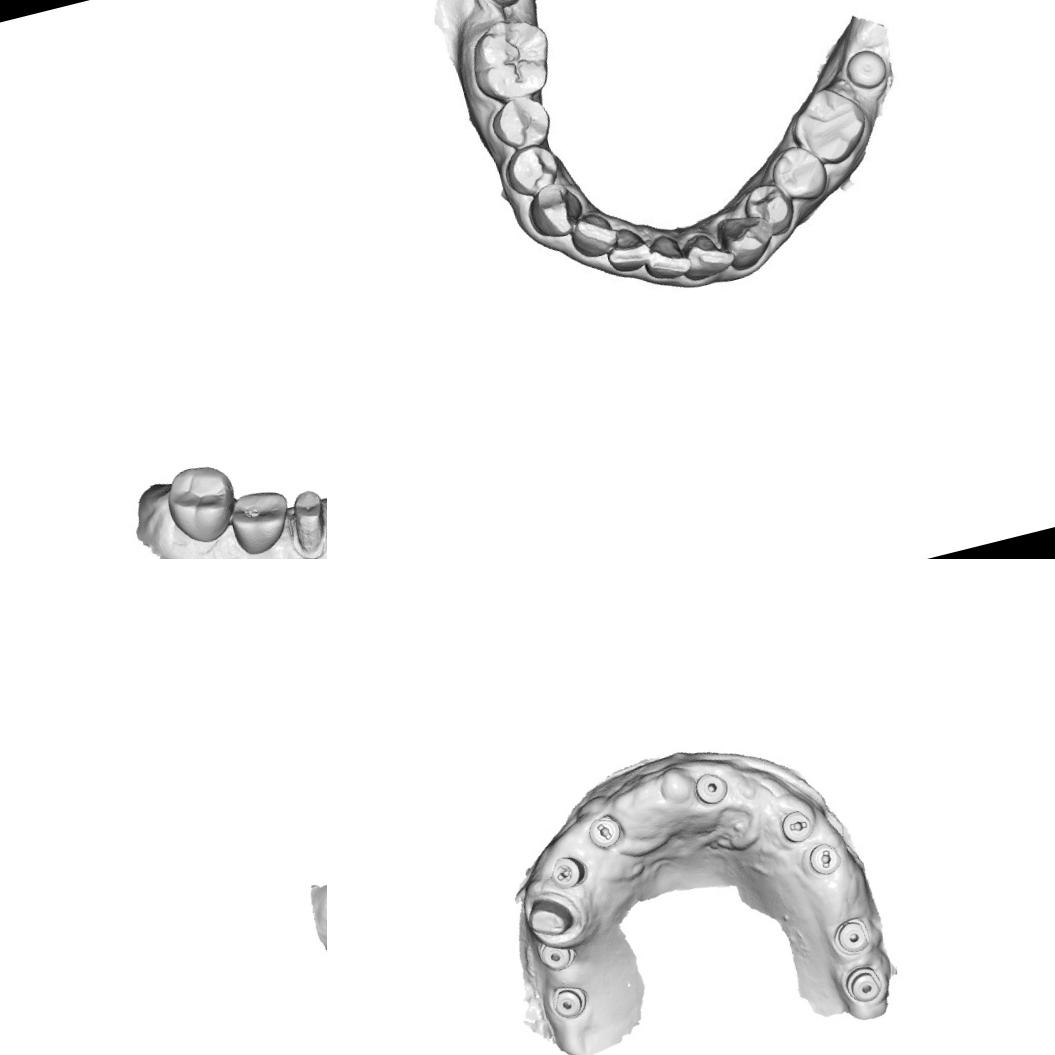canine: (522, 179, 586, 242), (718, 208, 778, 270)
crown: (520, 882, 584, 942), (280, 484, 327, 559)
implant: (826, 910, 878, 961), (686, 764, 735, 816), (842, 43, 892, 93), (838, 962, 890, 1010), (542, 979, 589, 1022), (532, 934, 580, 976)
implant_minus: (771, 801, 822, 851), (582, 808, 628, 854), (800, 838, 846, 882)
implant_plus: (543, 851, 586, 893)
incisor: (637, 230, 694, 289), (682, 226, 735, 285), (566, 208, 622, 262), (602, 220, 649, 277)
molar: (470, 13, 557, 106), (160, 457, 244, 550), (788, 82, 872, 167), (224, 484, 298, 558)
premolar: (766, 140, 830, 201), (489, 92, 552, 151), (744, 180, 800, 239), (501, 142, 562, 196)
